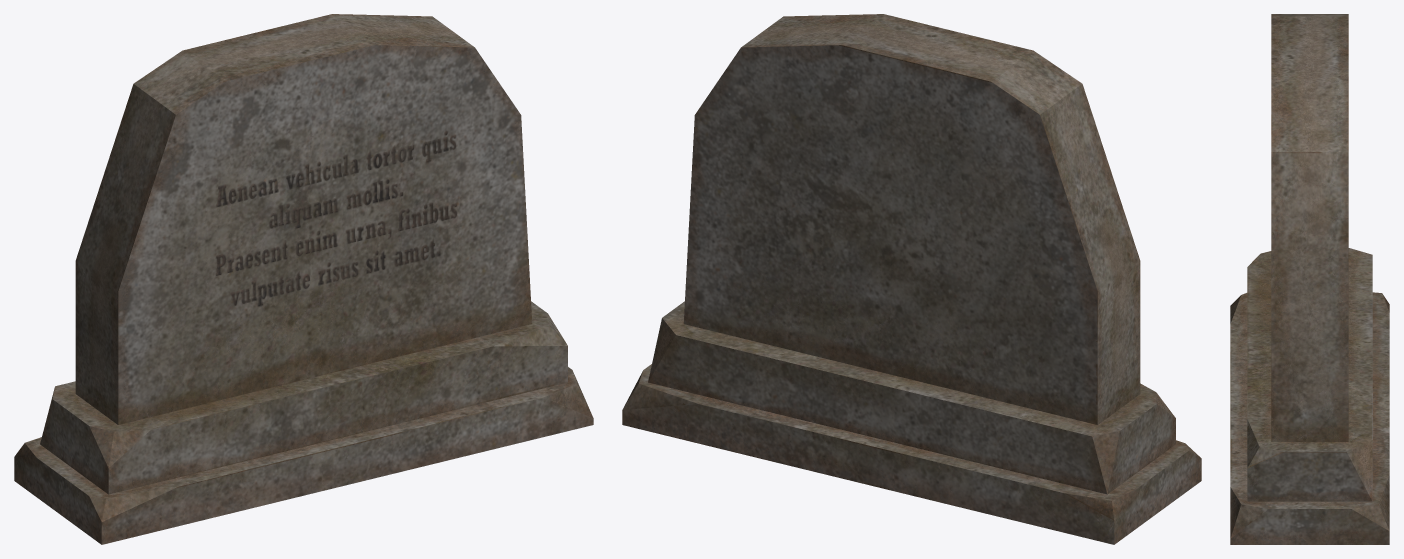
The model's file is Tomb.fbx.
3 views of the same model, side by side, from view 1: azimuth 30°, elevation 25°; view 2: azimuth 150°, elevation 25°; view 3: azimuth 270°, elevation 25° (orthographic). The views are drawn at different scales.
Parts seen in each view (by area): view 1: Tomb; view 2: Tomb; view 3: Tomb.
Part boxes in pixels (x1=…): Tomb: x1=14, y1=14, x2=593, y2=544; Tomb: x1=622, y1=14, x2=1201, y2=544; Tomb: x1=1230, y1=14, x2=1389, y2=544.
Bounding box in the file's own units: 364 × 291 × 112.
